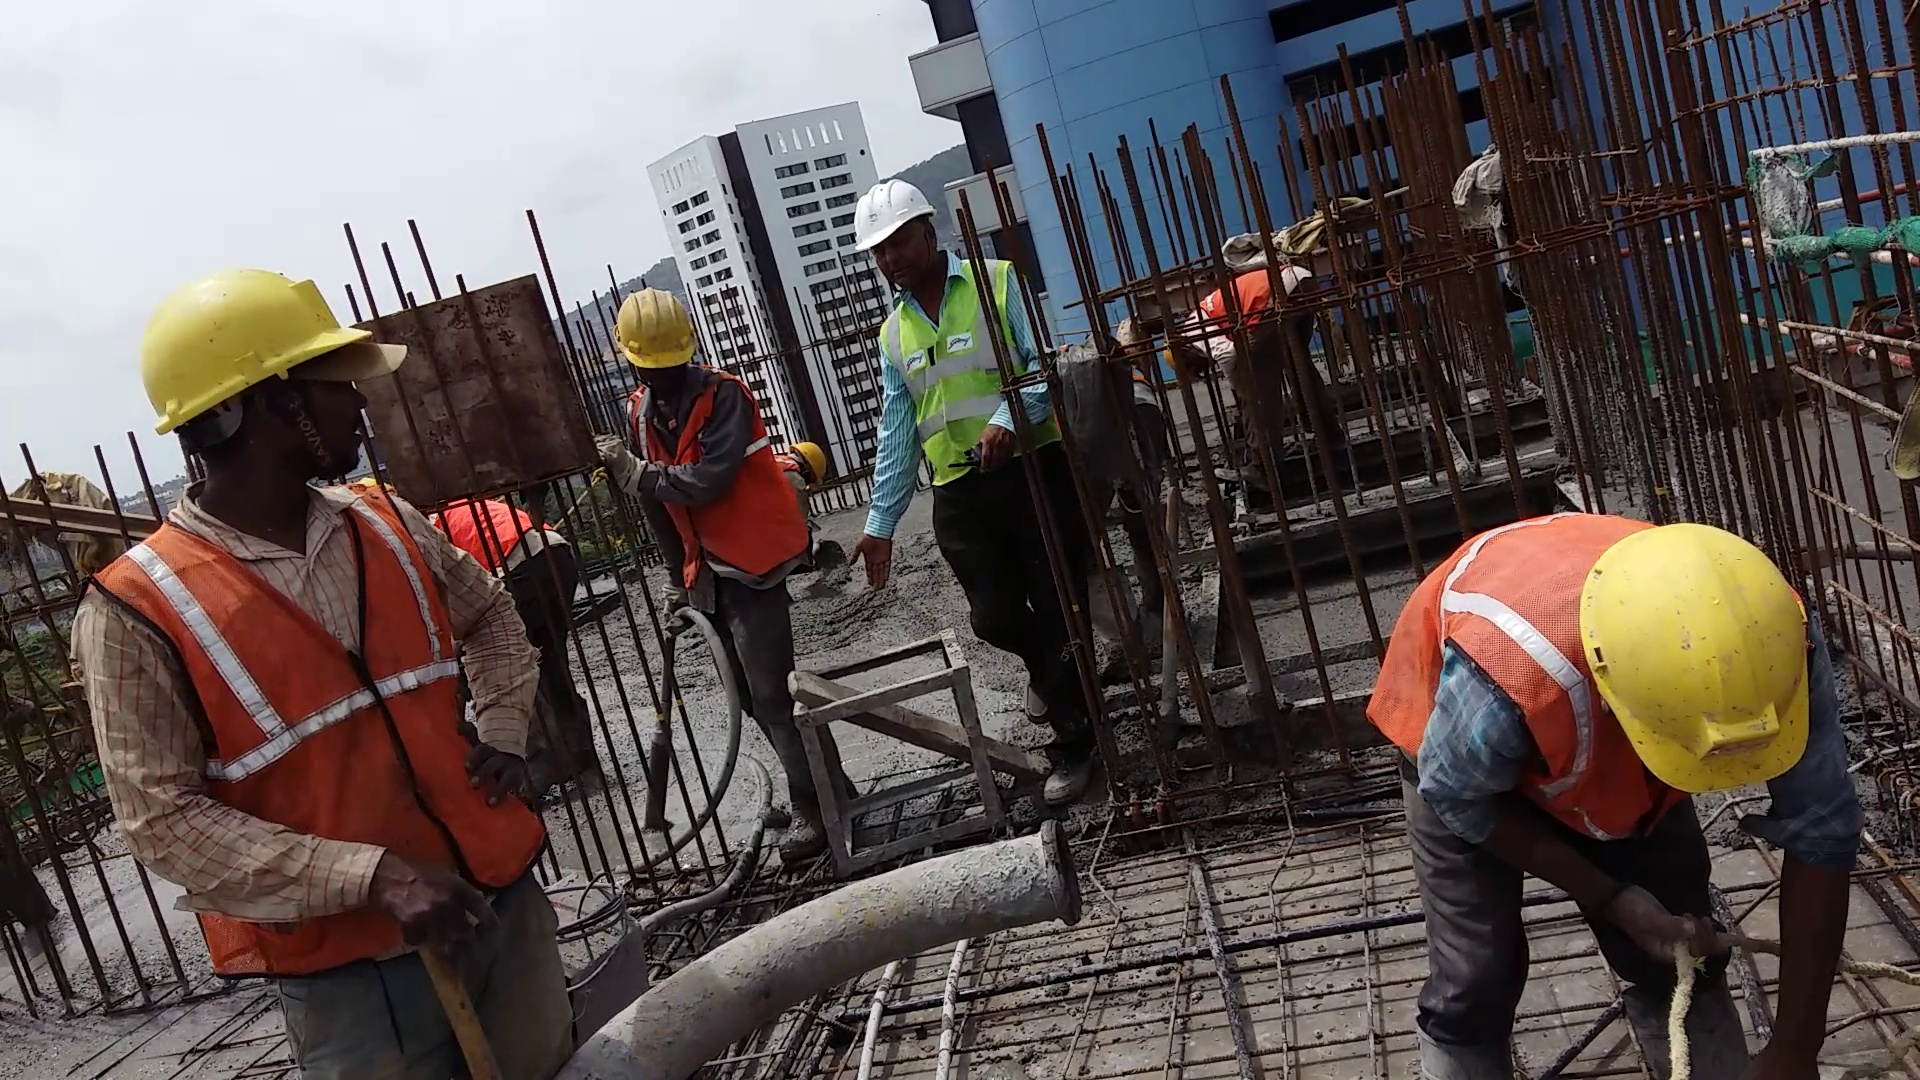SAFE: (65, 255, 495, 969), (1360, 512, 1821, 843), (844, 174, 1048, 497), (612, 276, 812, 593)
